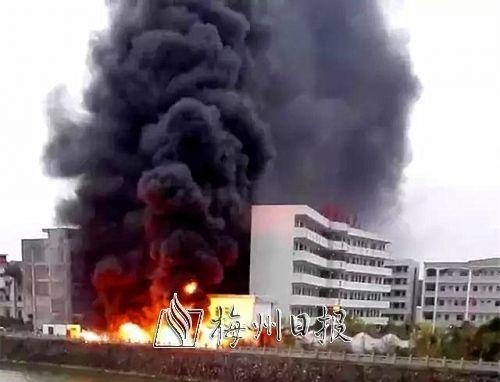fire: (116, 275, 221, 347)
